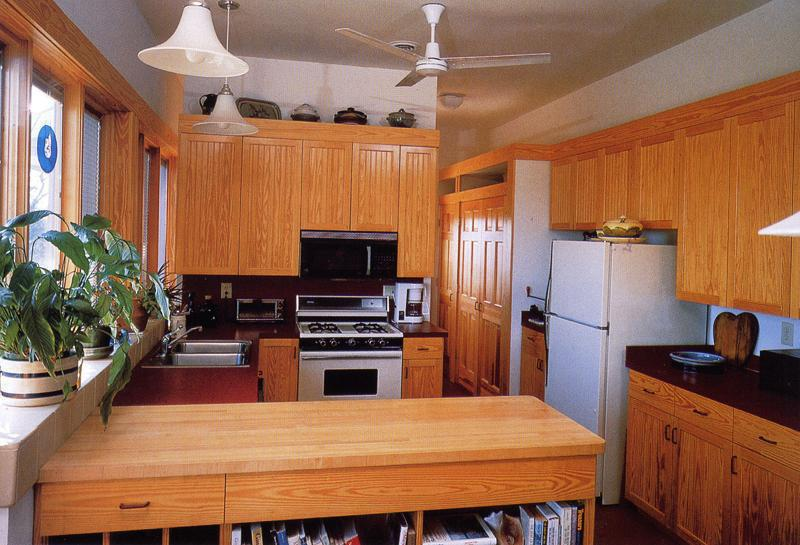Electrodomestico: (551, 242, 622, 430), (304, 310, 402, 396)
Lavaplatos: (147, 318, 254, 369)
Matera: (9, 236, 113, 402), (76, 212, 140, 365)
